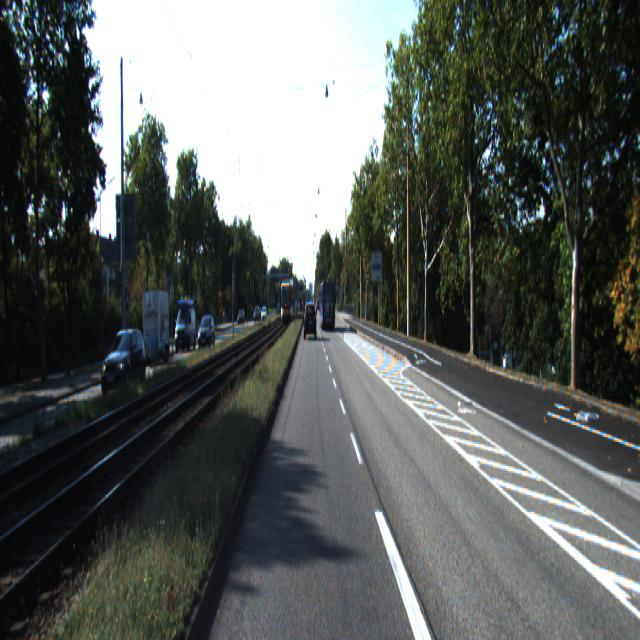Car: (101, 325, 149, 402), (142, 287, 171, 367), (174, 305, 196, 355), (320, 279, 336, 330), (304, 303, 316, 340)
